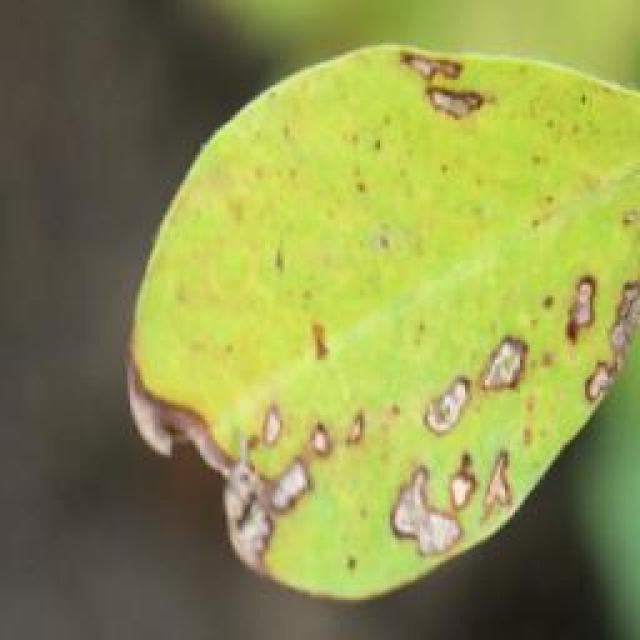Yellowish: (132, 40, 640, 562)
